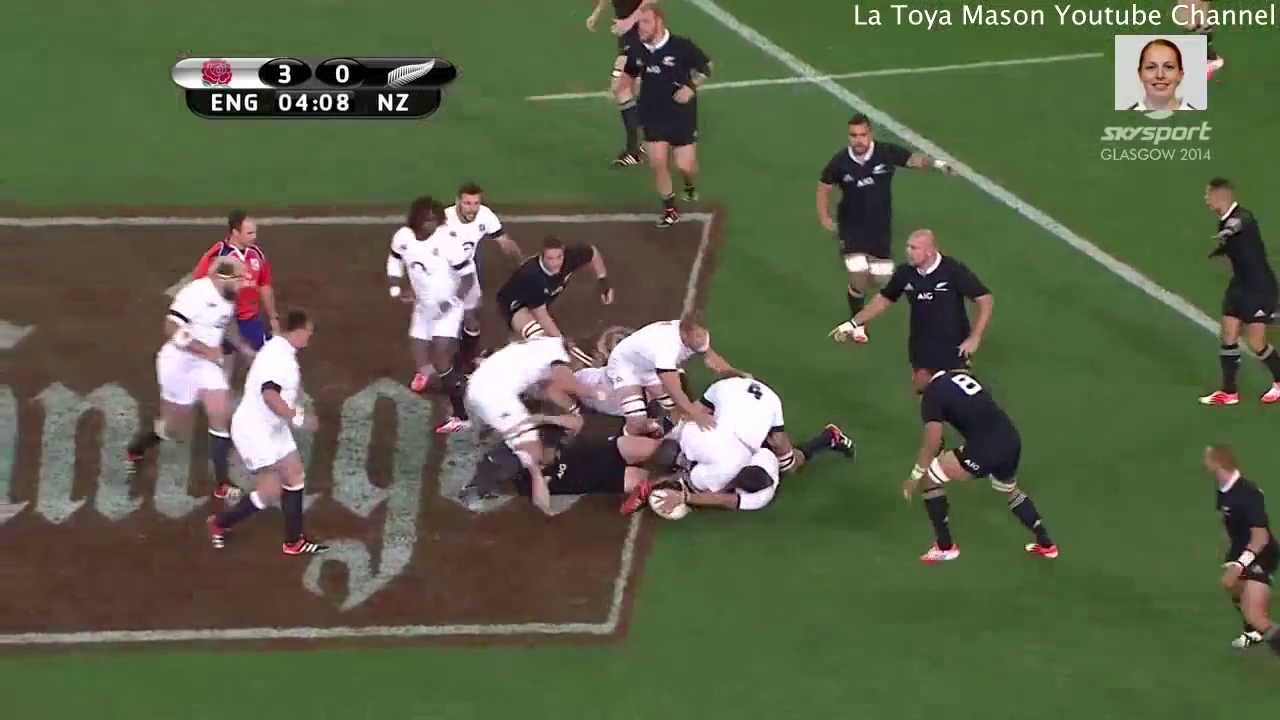ball: (646, 479, 706, 528)
player: (893, 337, 1083, 580), (795, 96, 971, 351), (92, 241, 243, 517), (200, 301, 337, 564), (824, 225, 1019, 409), (378, 181, 486, 446), (609, 3, 730, 233), (442, 328, 592, 508), (634, 367, 785, 525), (1183, 170, 1280, 414), (592, 284, 743, 435), (1192, 435, 1280, 665), (168, 204, 291, 368), (476, 231, 623, 342), (574, 1, 664, 179), (647, 440, 783, 523), (425, 176, 531, 280)
